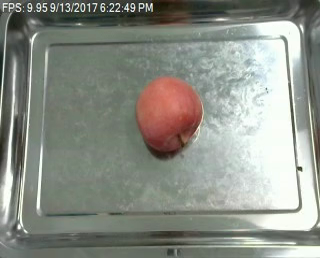Apple: (134, 72, 203, 158)
